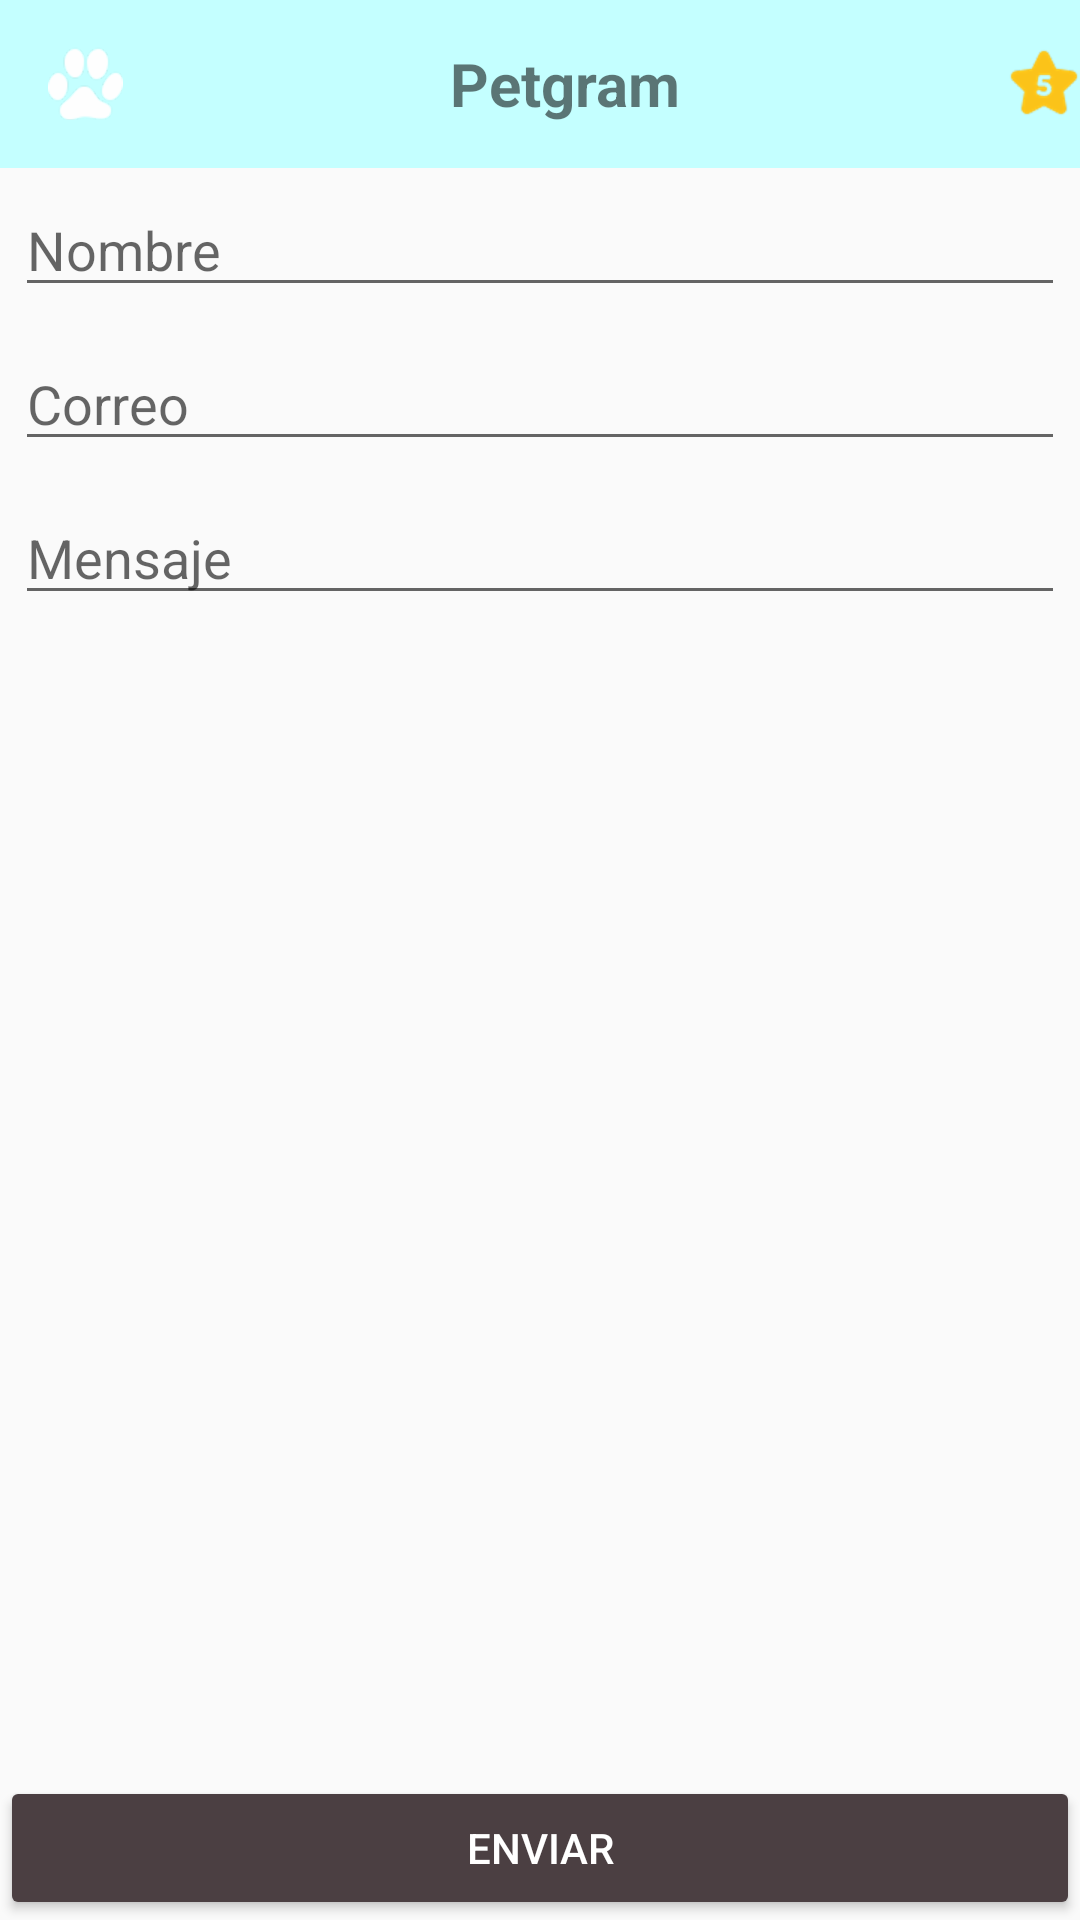

Icon bounding boxes for this 1080 x 1920 phone screenshot, format bbox=[x1, y1, x2, y2]:
cat footprint: bbox=[48, 49, 123, 119]
star: bbox=[1010, 50, 1078, 115]
